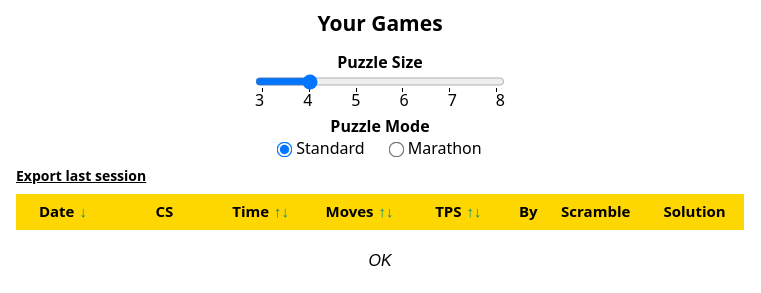
Scenario: GamesTable › sorting › re-requests with the real chosen field once a desktop sort control is clicked
The image size is (761, 293).
Check: the element with class "buttons" is shown, box [330,245,430,277]
Click the text "↑↓" next to "Time" at (282, 211), box [274,201,289,221]
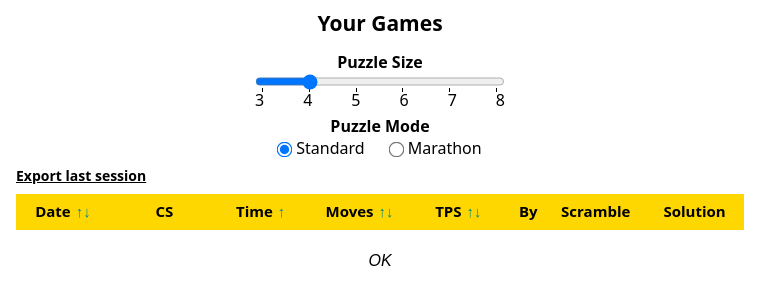
Check: the text "↑" is shown, box [278,201,285,221]
